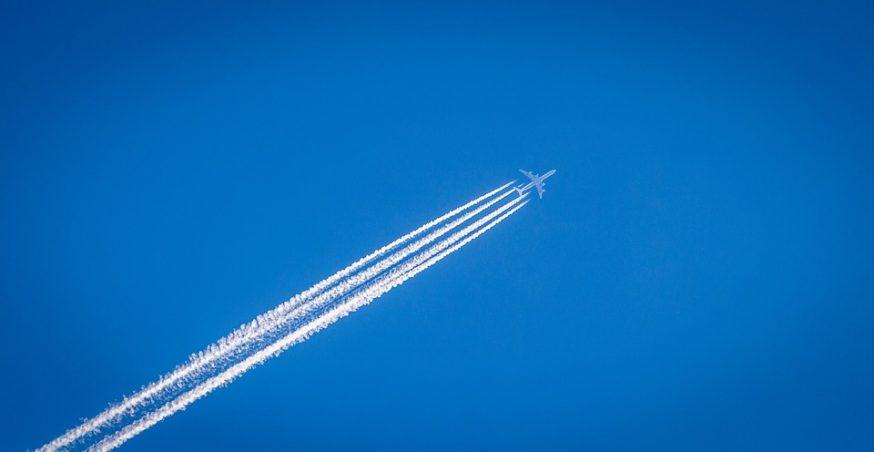plane: (515, 162, 559, 202)
